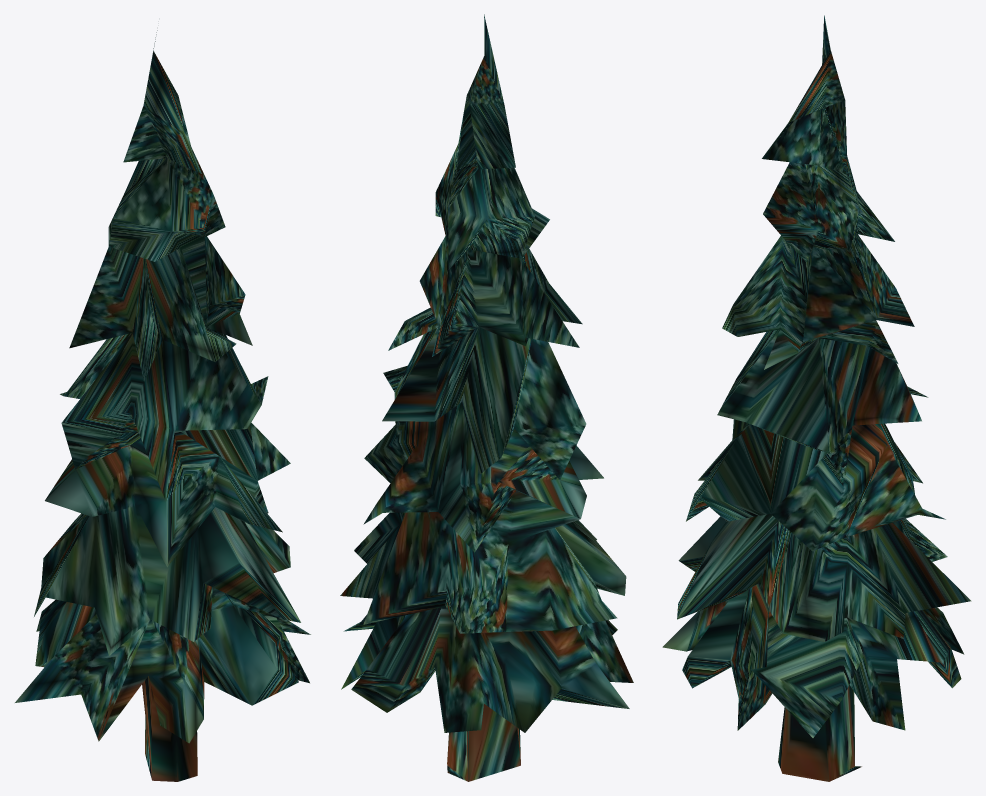
The model's file is tree-fir-lod.glb.
3 views of the same model, side by side, from view 1: azimuth 30°, elevation 25°; view 2: azimuth 150°, elevation 25°; view 3: azimuth 270°, elevation 25° (orthographic).
Visible parts, largest first — view 1: tree-fir-lod; view 2: tree-fir-lod; view 3: tree-fir-lod.
Boxes of the visible parts, left/top/right/bottom form: tree-fir-lod: left=15, top=30, right=310, bottom=781; tree-fir-lod: left=340, top=14, right=633, bottom=781; tree-fir-lod: left=662, top=15, right=971, bottom=781.
Bounding box in the file's own units: 6.49 × 16 × 5.97.
1 material, 1 textured.
